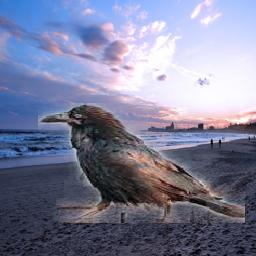Crow: (39, 103, 246, 223)
